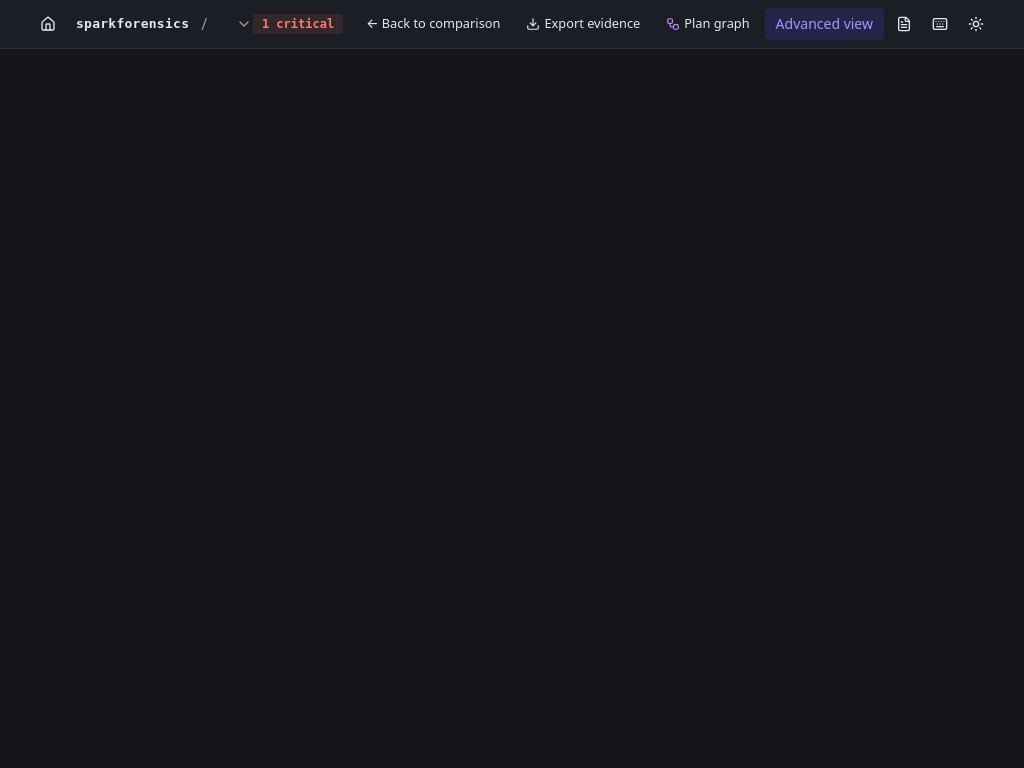
Test: the picker impactBand and total count aggregate all findings across linked stages, including stageIds-only findings
Click the button "Plan graph" at [708, 24], box [655, 10, 761, 38]
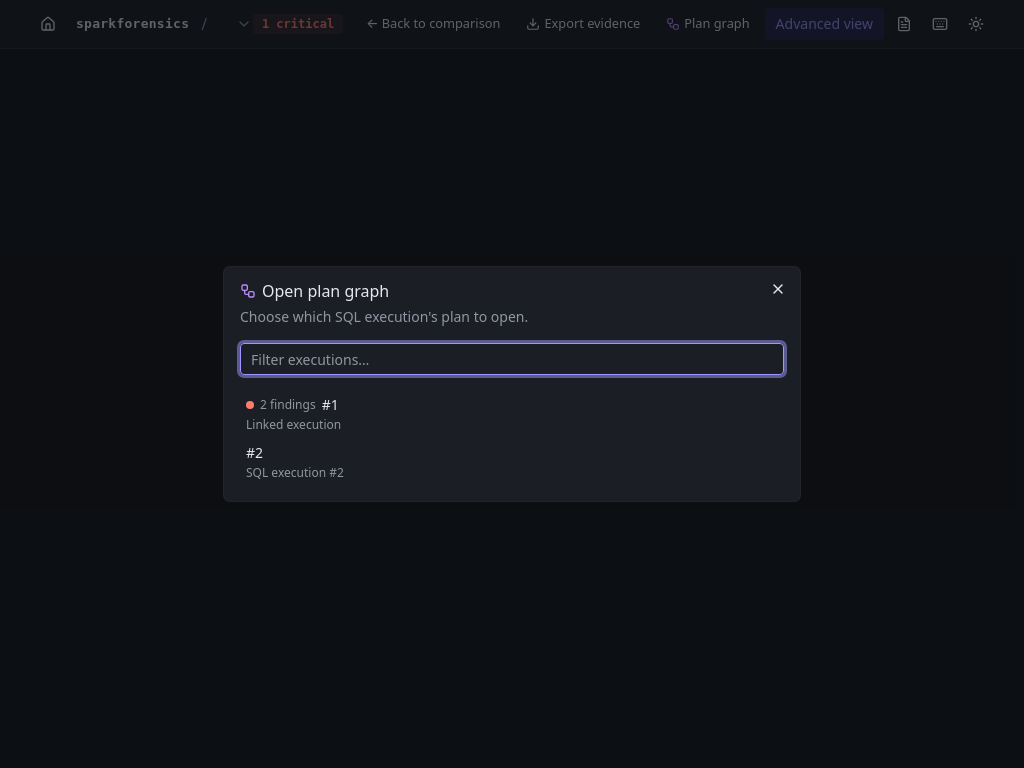
Check: the heading "Open plan graph" is shown, box [240, 280, 389, 302]
Check: the text "Linked execution" is shown, box [246, 416, 341, 433]
Check: the text "2 findings" is shown, box [260, 397, 316, 413]
